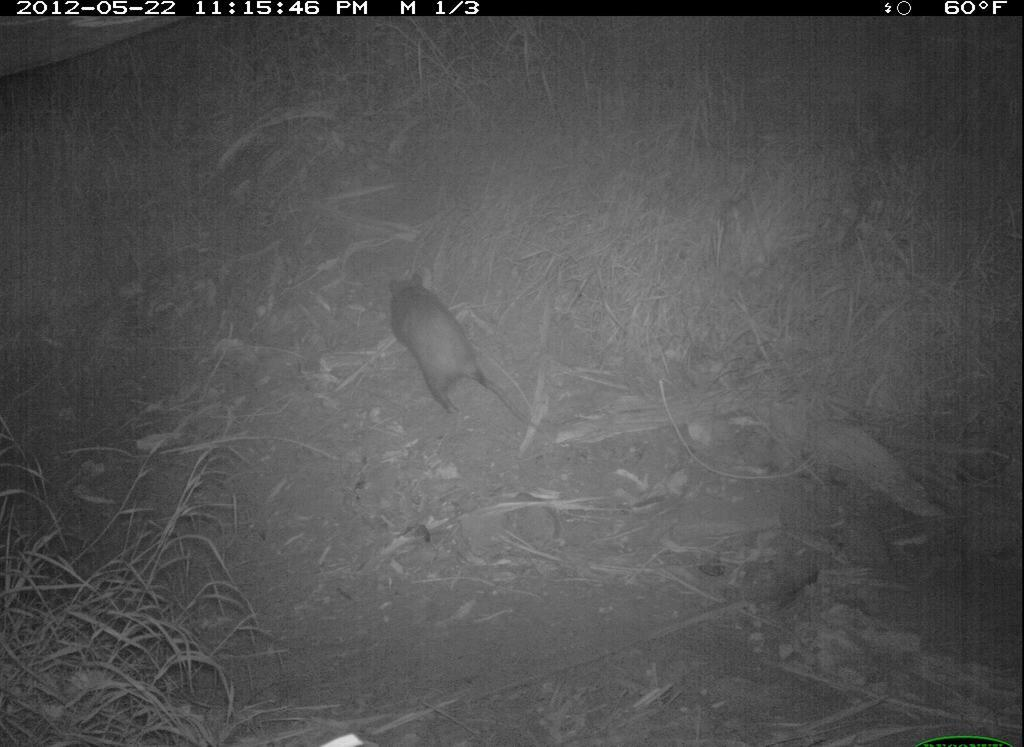opossum: (381, 264, 553, 440)
